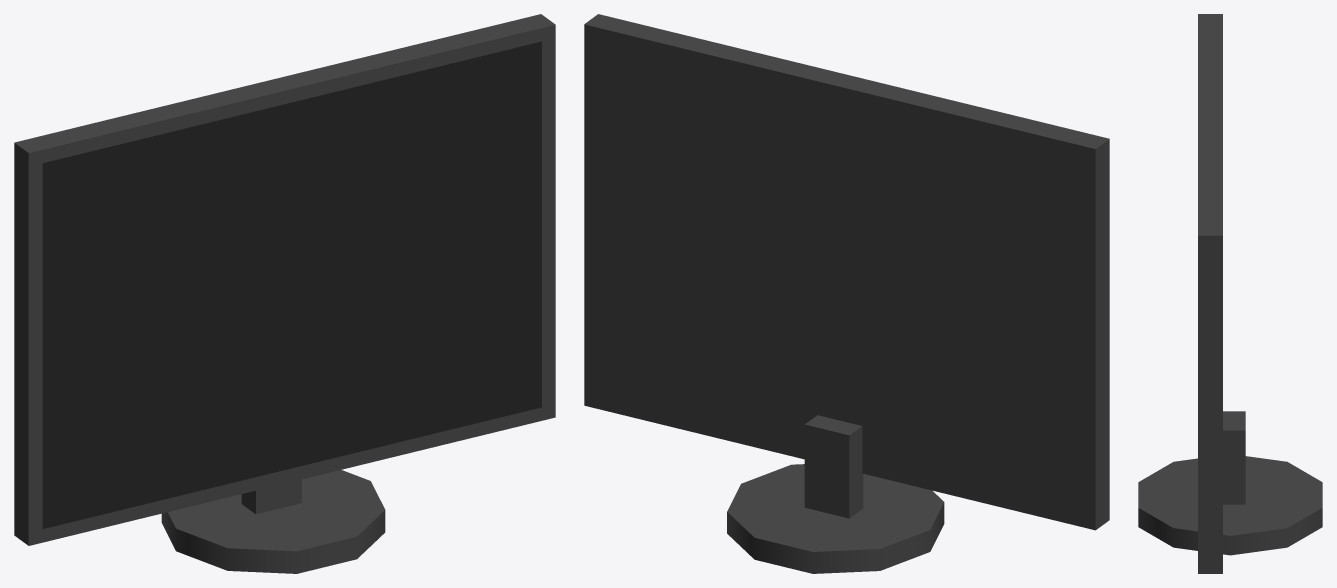
Rendered from Computer_2.fbx.
3 views of the same model, side by side, from view 1: azimuth 30°, elevation 25°; view 2: azimuth 150°, elevation 25°; view 3: azimuth 270°, elevation 25° (orthographic). The views are drawn at different scales.
Parts seen in each view (by area): view 1: polySurface1521; view 2: polySurface1521; view 3: polySurface1521.
Boxes of the visible parts, <box> form: polySurface1521: <box>14,14,555,573</box>; polySurface1521: <box>584,14,1109,573</box>; polySurface1521: <box>1138,14,1322,573</box>.
Bounding box in the file's own units: 0.73 × 0.5988 × 0.2568.
Materials: 1 (1 with a texture image).
